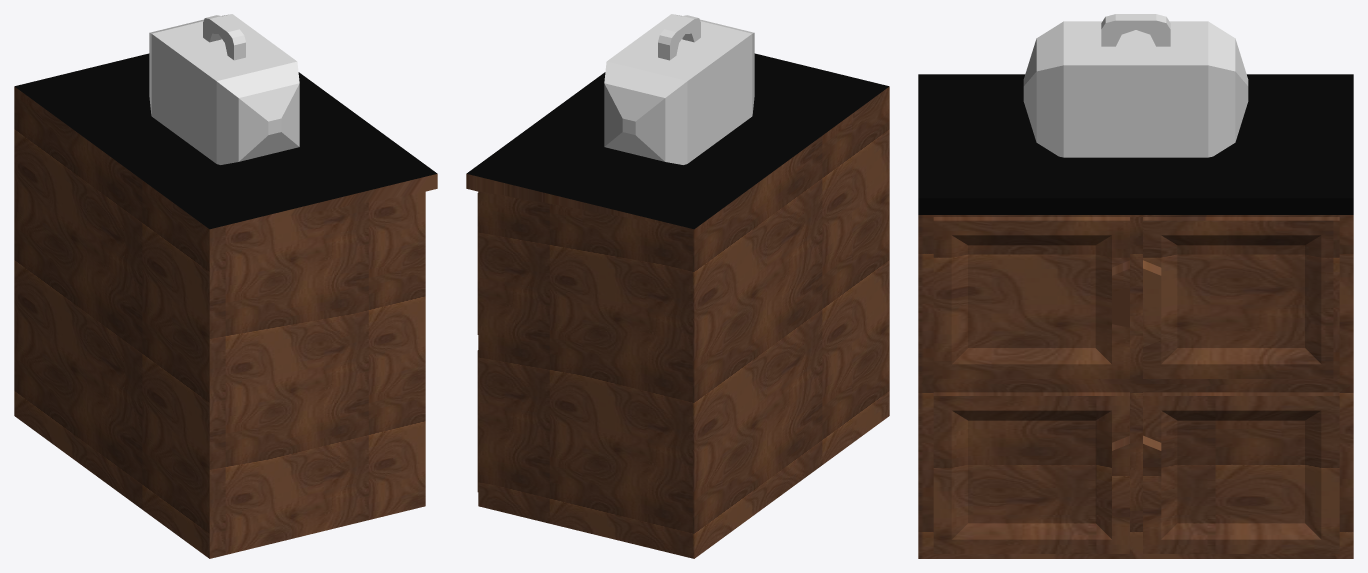
The model's file is ulk.fbx.
The picture shows the model from 3 angles, left to right: view 1: azimuth 30°, elevation 25°; view 2: azimuth 150°, elevation 25°; view 3: azimuth 270°, elevation 25°; orthographic projection. The views are drawn at different scales.
Visible parts, largest first — view 1: Cube.001, Cube; view 2: Cube.001, Cube; view 3: Cube.001, Cube.
Part boxes in pixels (box(x1,y1,x2,y2)): Cube.001: box(14, 53, 437, 558); Cube: box(149, 14, 299, 164); Cube.001: box(466, 53, 889, 558); Cube: box(604, 14, 754, 164); Cube.001: box(918, 74, 1353, 558); Cube: box(1023, 14, 1248, 157).
Size of the model in its own units: 589 by 1030 by 837.
